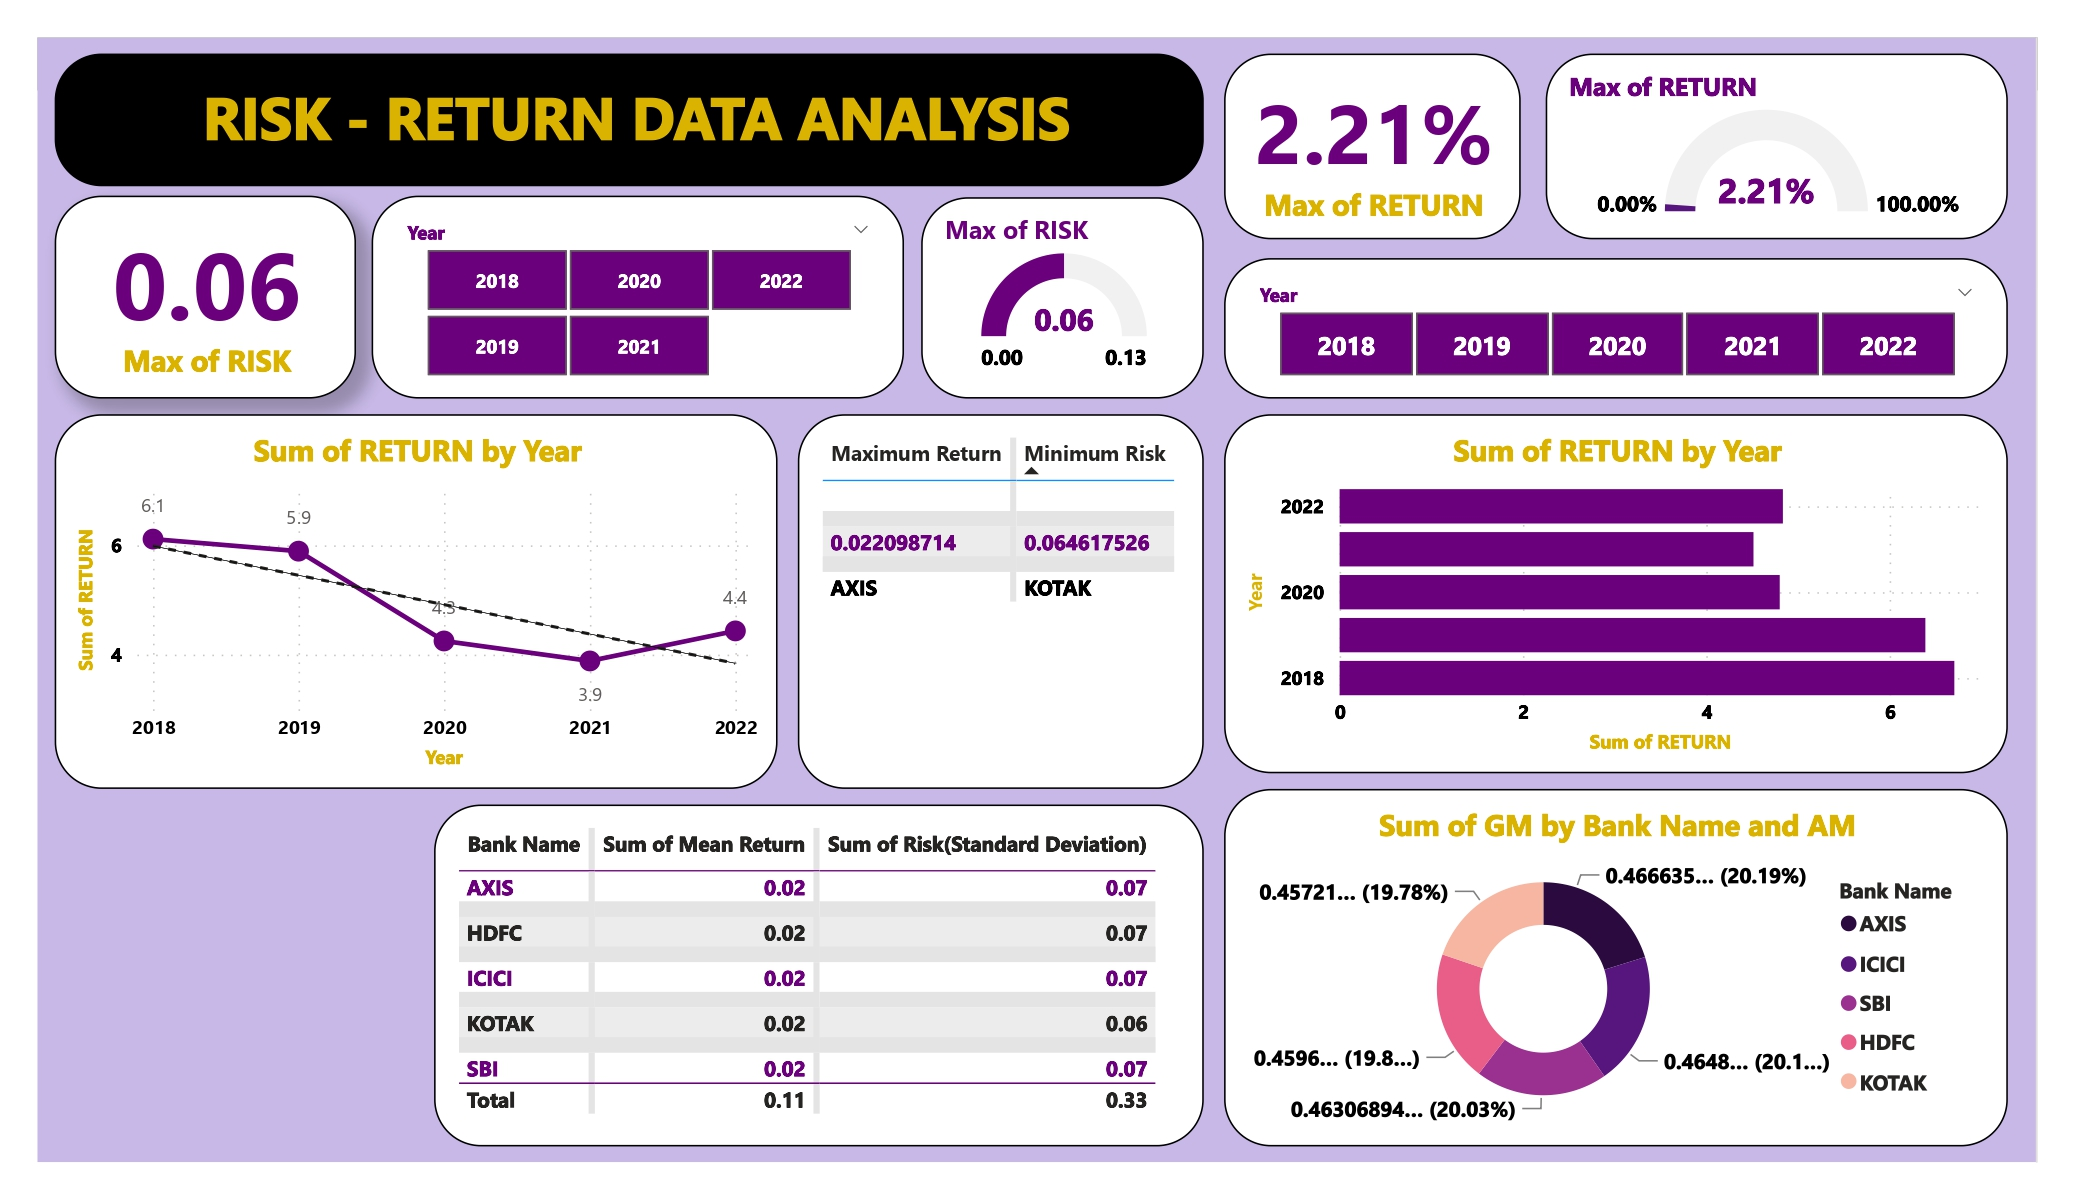

The page's visual inventory and layout, read from the dashboard file:
{"tool":"powerbi","page":{"name":"RISK - RETURN ANALYSIS","canvas":[1280,720],"ordinal":5},"visuals":[{"type":"textbox","box":[11.5,10.1,735.8,84.8],"z":0},{"type":"card","fields":{"Values":["Max(MIN & MAX RISK.RETURN)"]},"box":[760.2,10.1,189.7,119.3],"z":1000},{"type":"gauge","fields":{"Y":["Max(MIN & MAX RISK.RETURN)"]},"box":[965.7,10.1,296,119.3],"z":2000},{"type":"slicer","fields":{"Values":["AXIS.NAV Date.Variation.Date Hierarchy.Year"]},"box":[760.2,140.8,501.6,90.5],"z":3000},{"type":"card","fields":{"Values":["Max(MIN & MAX RISK.RISK)"]},"box":[11.5,100.6,192.6,130.8],"z":4000},{"type":"gauge","fields":{"Y":["Max(MIN & MAX RISK.RISK)"]},"box":[566.2,102,181.1,129.3],"z":5000},{"type":"slicer","fields":{"Values":["KOTAK.NAV Date.Variation.Date Hierarchy.Year"]},"box":[214.1,100.6,340.6,130.8],"z":6000},{"type":"clusteredBarChart","fields":{"Category":["AXIS.NAV Date.Variation.Date Hierarchy.Year"],"Y":["Sum(AXIS.RETURN)"]},"box":[760.2,241.4,501.6,229.9],"z":7000},{"type":"lineChart","fields":{"Category":["KOTAK.NAV Date.Variation.Date Hierarchy.Year"],"Y":["Sum(KOTAK.RETURN)"]},"box":[11.5,241.4,462.8,240],"z":8000},{"type":"donutChart","fields":{"Category":["RISK.Bank Name"],"Series":["RISK.AM"],"Y":["Sum(RISK.GM)"]},"box":[760.2,481.4,501.6,228.5],"z":9000},{"type":"tableEx","fields":{"Values":["OBSERVATION.Maximum Return","OBSERVATION.Minimum Risk"]},"box":[487.2,241.4,260.1,240],"z":10000},{"type":"tableEx","fields":{"Values":["OBSERVATION.Bank Name","Sum(OBSERVATION.Mean Return)","Sum(OBSERVATION.Risk(Standard Deviation))"]},"box":[254.4,491.5,492.9,218.4],"z":11000}]}

Visuals, with their boxes on the page's 1280x720 design canvas (x1, y1, x2, y2). These are canvas units, not pixel positions in the 2075x1200 screenshot, which may show the page scaled, cropped or inside an application window:
textbox: bbox=[12, 10, 747, 95]
card - Max(MIN & MAX RISK.RETURN): bbox=[760, 10, 950, 129]
gauge - Max(MIN & MAX RISK.RETURN): bbox=[966, 10, 1262, 129]
slicer - AXIS.NAV Date.Variation.Date Hierarchy.Year: bbox=[760, 141, 1262, 231]
card - Max(MIN & MAX RISK.RISK): bbox=[12, 101, 204, 231]
gauge - Max(MIN & MAX RISK.RISK): bbox=[566, 102, 747, 231]
slicer - KOTAK.NAV Date.Variation.Date Hierarchy.Year: bbox=[214, 101, 555, 231]
clusteredBarChart - AXIS.NAV Date.Variation.Date Hierarchy.Year x Sum(AXIS.RETURN): bbox=[760, 241, 1262, 471]
lineChart - KOTAK.NAV Date.Variation.Date Hierarchy.Year x Sum(KOTAK.RETURN): bbox=[12, 241, 474, 481]
donutChart - RISK.Bank Name x RISK.AM: bbox=[760, 481, 1262, 710]
tableEx - OBSERVATION.Maximum Return x OBSERVATION.Minimum Risk: bbox=[487, 241, 747, 481]
tableEx - OBSERVATION.Bank Name x Sum(OBSERVATION.Mean Return): bbox=[254, 492, 747, 710]
